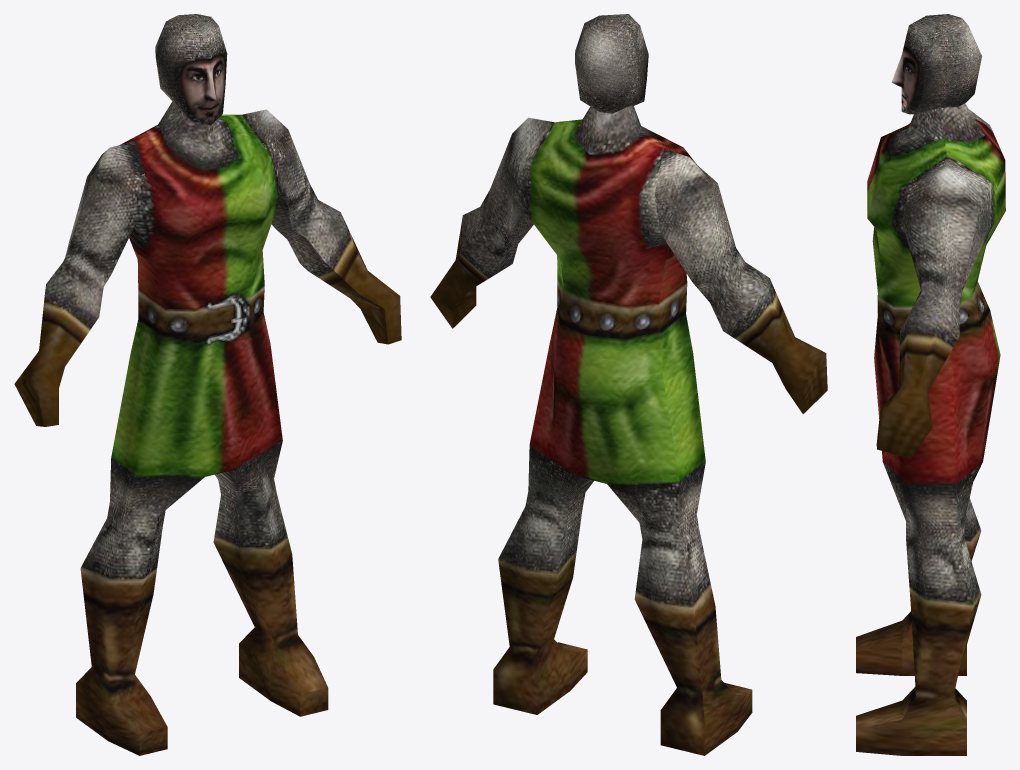
Rendered from swordManUnanimated.DAE.
3 views of the same model, side by side, from view 1: azimuth 30°, elevation 25°; view 2: azimuth 150°, elevation 25°; view 3: azimuth 270°, elevation 25° (orthographic). The views are drawn at different scales.
Parts seen in each view (by area): view 1: swordman; view 2: swordman; view 3: swordman.
Boxes of the visible parts, bbox=[...] form: swordman: bbox=[14, 14, 401, 755]; swordman: bbox=[430, 14, 827, 755]; swordman: bbox=[856, 14, 1005, 755].
Bounding box in the file's own units: 99.89 × 35.5 × 179.
